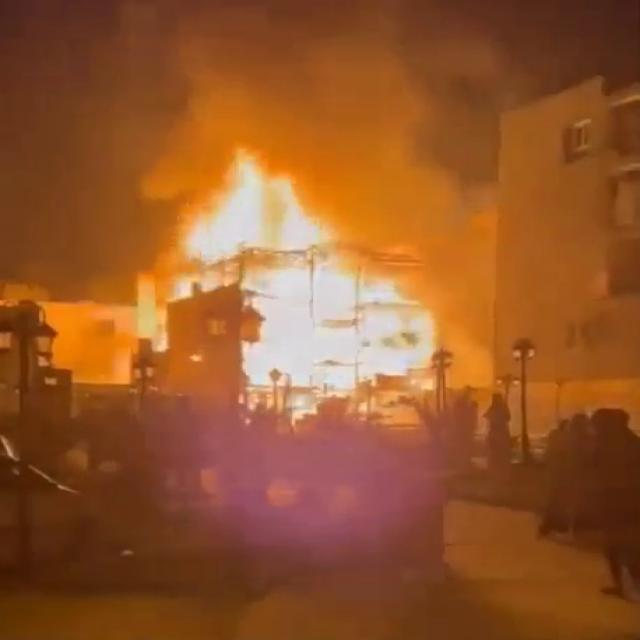Fire: (243, 273, 407, 387), (182, 170, 327, 261), (356, 298, 442, 373)
